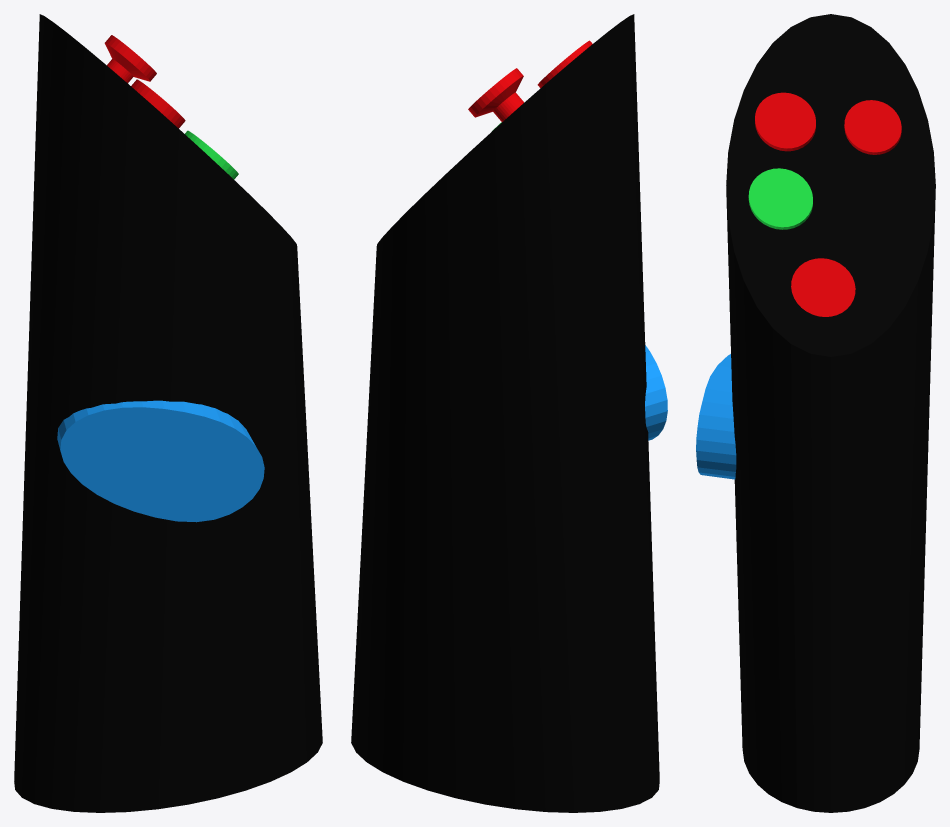
The model's file is SimpleVRController.fbx.
3 renders of one model, left to right at view 1: azimuth 30°, elevation 25°; view 2: azimuth 150°, elevation 25°; view 3: azimuth 270°, elevation 25°, orthographic. The views are drawn at different scales.
Visible parts, largest first — view 1: Cylinder; view 2: Cylinder; view 3: Cylinder.
Boxes of the visible parts, left/top/right/bottom form: Cylinder: left=14, top=14, right=322, bottom=812; Cylinder: left=351, top=14, right=667, bottom=812; Cylinder: left=696, top=14, right=935, bottom=812.
Size of the model in its own units: 169 by 423 by 134.
